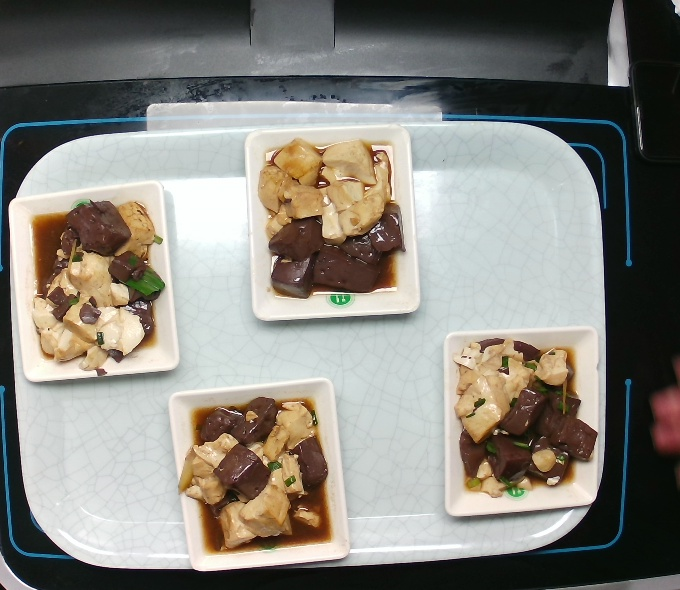wcq-DouFuMiuXue: (26, 189, 175, 377), (177, 395, 340, 553), (255, 133, 410, 299), (456, 340, 603, 500)
